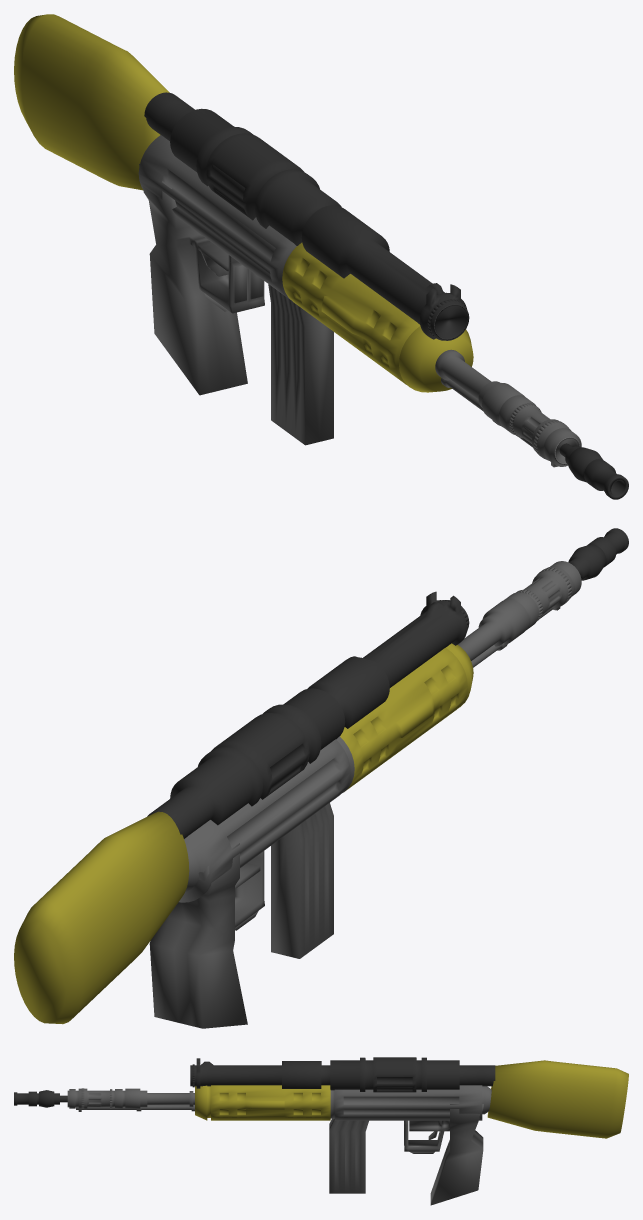
File: HKG3_Aksesoris_Depan1.fbx
3 renders of one model, top to bottom at view 1: azimuth 30°, elevation 25°; view 2: azimuth 150°, elevation 25°; view 3: azimuth 270°, elevation 25°, orthographic. The views are drawn at different scales.
Visible parts, largest first — view 1: Objek HKG 4, Objek HKG 2, Objek HKG 6, Objek HKG 7, Objek HKG 5, Objek HKG 1, Objek HKG 8; view 2: Objek HKG 6, Objek HKG 4, Objek HKG 2, Objek HKG 7, Objek HKG 5, Objek HKG 1, Objek HKG 8; view 3: Objek HKG 2, Objek HKG 6, Objek HKG 4, Objek HKG 7, Objek HKG 5, Objek HKG 1, Objek HKG 8, Objek HKG 3.
Part boxes in pixels (x1,y1,x2,y2): Objek HKG 4: (144, 92, 469, 340); Objek HKG 2: (138, 135, 473, 392); Objek HKG 6: (14, 14, 169, 190); Objek HKG 7: (139, 164, 264, 395); Objek HKG 5: (268, 284, 333, 445); Objek HKG 1: (435, 349, 581, 467); Objek HKG 8: (559, 443, 628, 499); Objek HKG 6: (14, 811, 189, 1024); Objek HKG 4: (147, 591, 469, 838); Objek HKG 2: (179, 643, 473, 902); Objek HKG 7: (149, 843, 264, 1028); Objek HKG 5: (271, 803, 333, 958); Objek HKG 1: (458, 561, 581, 660); Objek HKG 8: (568, 528, 628, 580); Objek HKG 2: (195, 1085, 491, 1120); Objek HKG 6: (487, 1060, 628, 1138); Objek HKG 4: (190, 1057, 495, 1092); Objek HKG 7: (404, 1104, 483, 1205); Objek HKG 5: (329, 1118, 368, 1193); Objek HKG 1: (67, 1088, 194, 1111); Objek HKG 8: (14, 1090, 67, 1107); Objek HKG 3: (76, 1105, 194, 1111).
Bounding box in the file's own units: 55.47 × 174 × 692.
